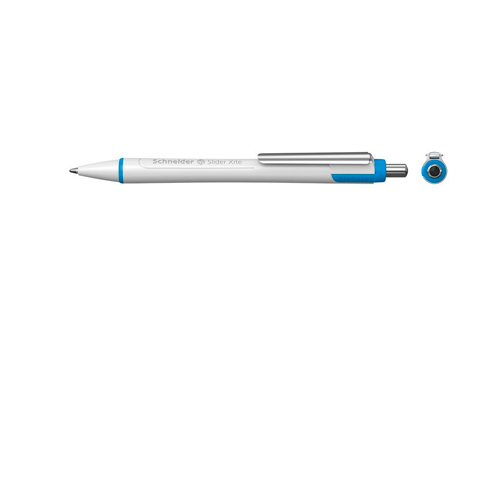Boligrafo: (65, 148, 453, 195)
